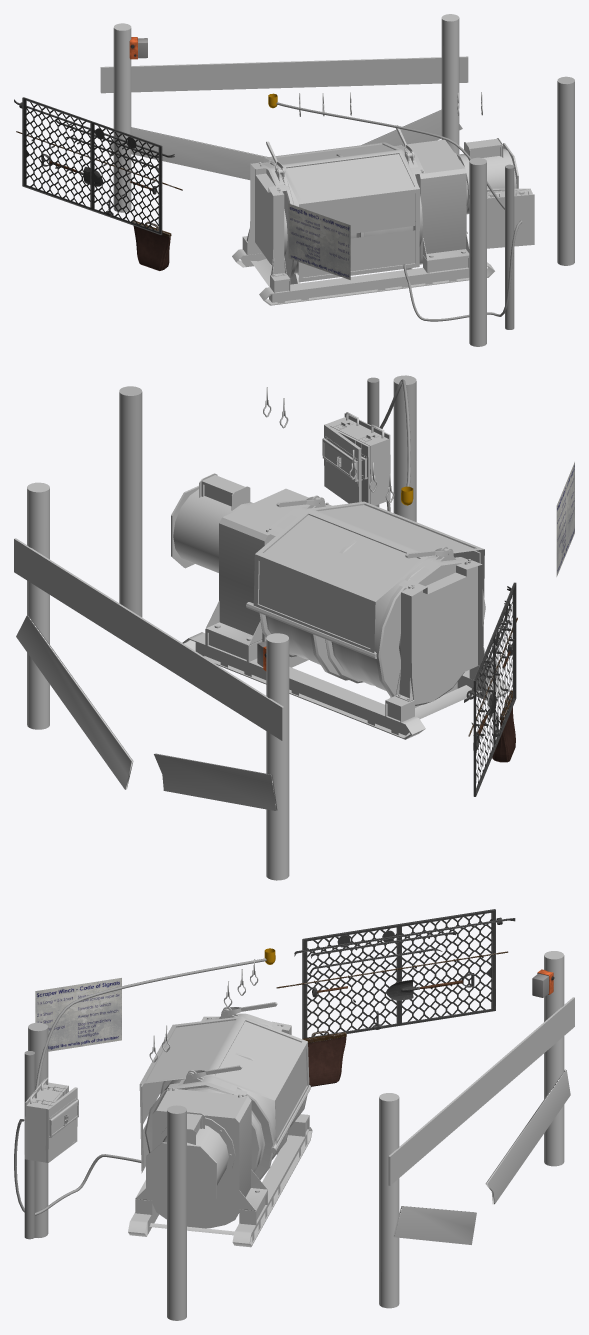
The model's file is face gulley winch broken plank.fbx.
3 views of the same model, one above another, from view 1: azimuth 30°, elevation 25°; view 2: azimuth 150°, elevation 25°; view 3: azimuth 270°, elevation 25° (orthographic). The views are drawn at different scales.
Parts seen in each view (by area): view 1: Winch__1_, Winch_005__1_, Tool_rack_001, Cube_001, Wood_barricades_021.004, Code_of_signals.001, Cylinder_003, Cylinder_003__1_, Cylinder_001, Cylinder_002, Power_box_not_locked__Hazard_.001, Cylinder_013 (+3 smaller); view 2: Winch__1_, Winch_005__1_, Cube_001, Wood_barricades_021.004, Tool_rack_001, Cylinder_003__1_, Cylinder_001, Cylinder_002, Cylinder_003, Power_Box.001, Power_box_not_locked__Hazard_.001, Code_of_signals.001 (+1 smaller); view 3: Winch__1_, Tool_rack_001, Winch_005__1_, Cube_001, Wood_barricades_021.004, Code_of_signals.001, Cylinder_003__1_, Cylinder_002, Power_box_not_locked__Hazard_.001, Cylinder_001, Cylinder_003, Cylinder_013 (+4 smaller).
Boxes of the visible parts, <box> form: Winch__1_: <box>232,125,518,305</box>; Winch_005__1_: <box>263,142,419,282</box>; Tool_rack_001: <box>14,97,182,270</box>; Cube_001: <box>100,56,468,93</box>; Wood_barricades_021.004: <box>110,109,462,179</box>; Code_of_signals.001: <box>288,203,350,279</box>; Cylinder_003: <box>469,157,486,346</box>; Cylinder_003__1_: <box>557,76,574,265</box>; Cylinder_001: <box>113,23,131,212</box>; Cylinder_002: <box>441,14,459,154</box>; Power_box_not_locked__Hazard_.001: <box>487,188,532,248</box>; Cylinder_013: <box>505,164,514,329</box>; Winch__1_: <box>171,473,509,739</box>; Winch_005__1_: <box>253,501,484,652</box>; Cube_001: <box>14,538,284,740</box>; Wood_barricades_021.004: <box>16,615,277,810</box>; Tool_rack_001: <box>464,582,517,796</box>; Cylinder_003__1_: <box>119,386,142,617</box>; Cylinder_001: <box>266,633,289,880</box>; Cylinder_002: <box>27,482,49,729</box>; Cylinder_003: <box>393,375,416,521</box>; Power_Box.001: <box>323,412,390,505</box>; Power_box_not_locked__Hazard_.001: <box>322,412,390,503</box>; Code_of_signals.001: <box>556,462,574,576</box>; Winch__1_: <box>128,1002,312,1247</box>; Tool_rack_001: <box>276,909,515,1086</box>; Winch_005__1_: <box>139,1016,309,1173</box>; Cube_001: <box>388,997,574,1185</box>; Wood_barricades_021.004: <box>393,1069,570,1244</box>; Code_of_signals.001: <box>35,978,121,1051</box>; Cylinder_003__1_: <box>167,1105,186,1320</box>; Cylinder_002: <box>379,1093,399,1308</box>; Power_box_not_locked__Hazard_.001: <box>24,1078,78,1162</box>; Cylinder_001: <box>544,951,564,1166</box>; Cylinder_003: <box>28,1022,48,1237</box>; Cylinder_013: <box>24,1051,34,1239</box>.
Bounding box in the file's own units: 419 × 195 × 433.
